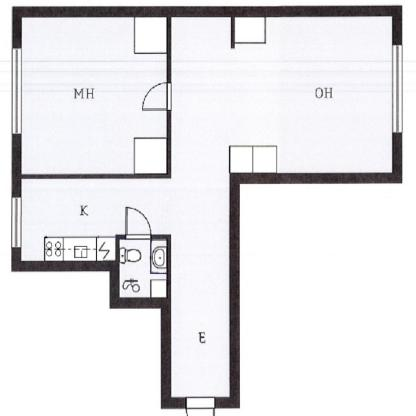door: (138, 80, 178, 112), (124, 205, 152, 241)
window: (391, 44, 404, 134), (12, 48, 21, 134), (10, 197, 22, 249)
zone: (18, 14, 392, 396), (20, 17, 167, 174), (119, 239, 167, 296)
